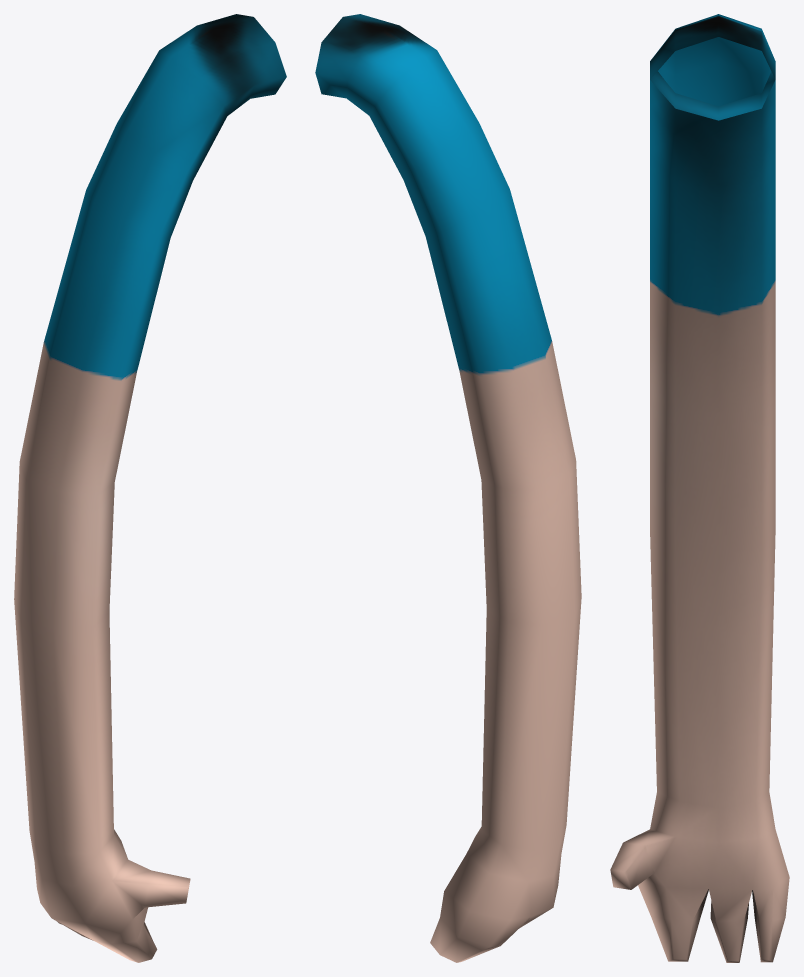
Rendered from brazoDer.fbx.
3 renders of one model, left to right at view 1: azimuth 30°, elevation 25°; view 2: azimuth 150°, elevation 25°; view 3: azimuth 270°, elevation 25°, orthographic. The views are drawn at different scales.
Visible parts, largest first — view 1: Finn; view 2: Finn; view 3: Finn.
Part boxes in pixels (box(x1,y1,x2,y2)): Finn: box(14, 14, 286, 962); Finn: box(315, 14, 581, 962); Finn: box(610, 14, 789, 962).
Bounding box in the file's own units: 780 × 2856 × 465.
